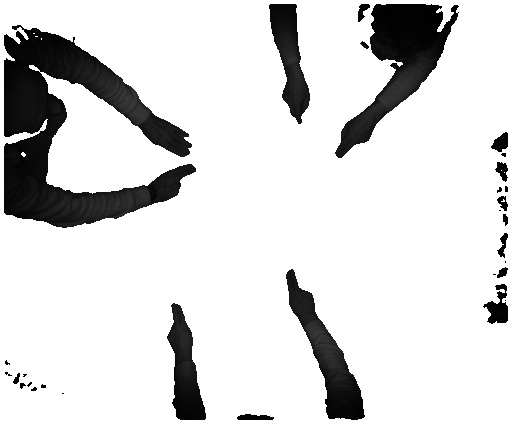hand: (148, 111, 197, 161), (328, 113, 378, 159), (160, 298, 199, 352), (280, 264, 319, 315), (155, 164, 199, 207), (280, 76, 311, 127)
